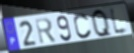2: (18, 20, 38, 49)
9: (57, 15, 73, 42)
C: (73, 13, 93, 40)
L: (108, 6, 131, 37)
Q: (90, 8, 114, 39)
R: (34, 16, 58, 46)
